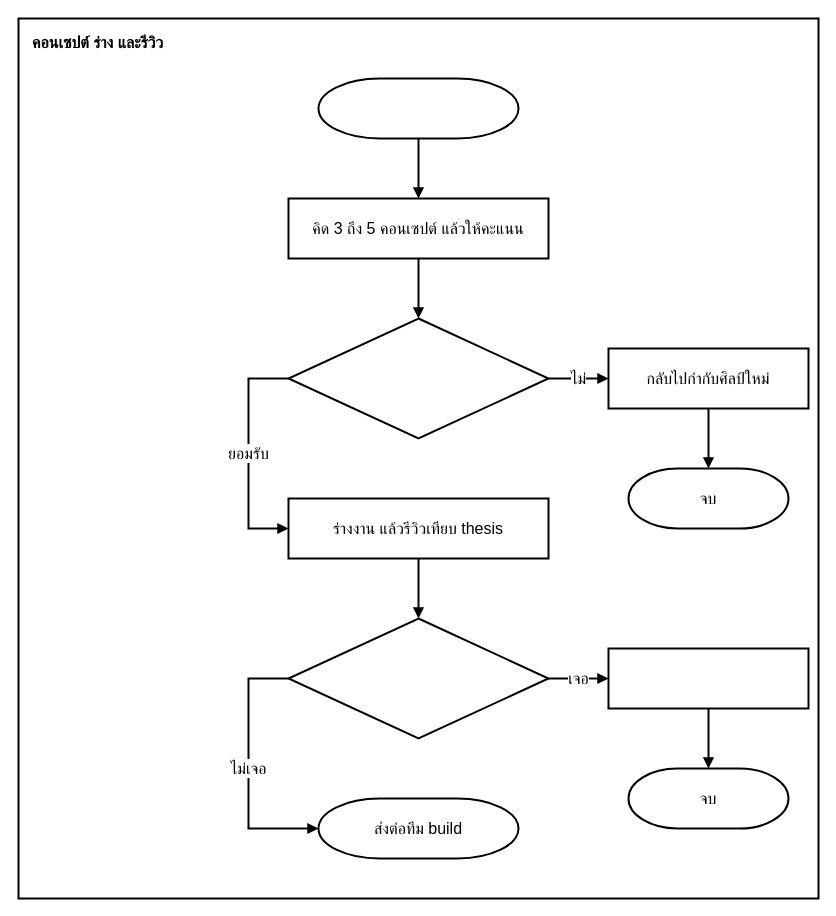
This 836x916 diagram has some shape labels left out. The box of each missing label's shape, as (x1, y1, x2, y2) in pixels:
ผู้ตัดสินยอมรับคอนเซปต์?: (287, 317, 549, 439)
เข้ารอบแก้ไข: (607, 647, 809, 709)
เจอ blocker?: (287, 617, 549, 739)
เริ่ม: (317, 77, 519, 139)
